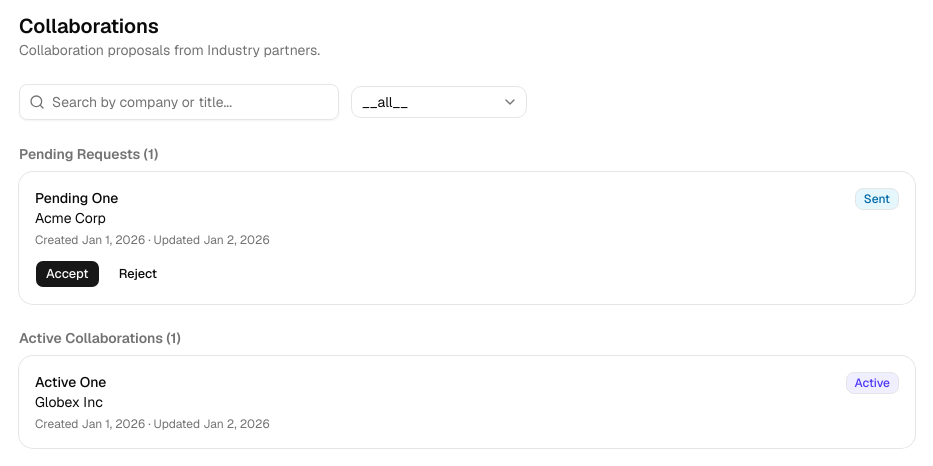
Test: InstitutionCollaborationsView › filters by search term across title and company
This screenshot has width=933, height=466.
Check: the link "Pending One" is shown, box x1=35 y1=189 x2=118 y2=207
Type "globex" into the field named "search collaborations" at (179, 102), box x1=19 y1=84 x2=339 y2=120
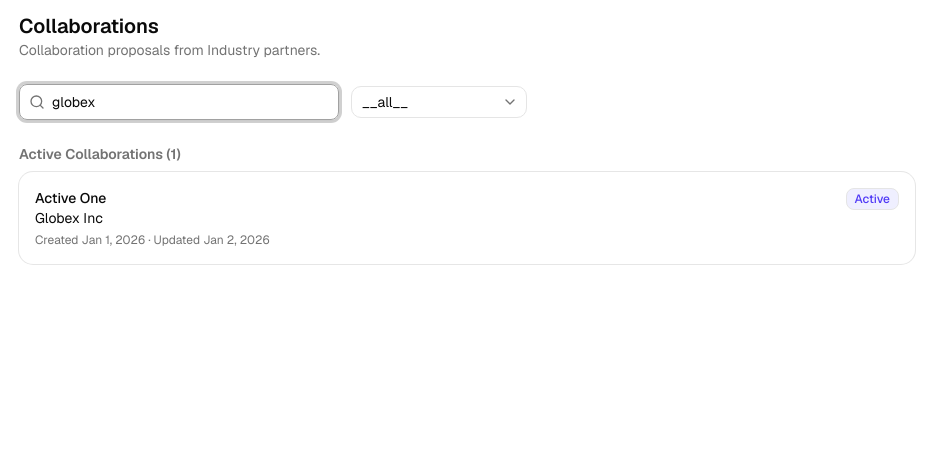
Check: the link "Active One" is shown, box x1=35 y1=189 x2=106 y2=207
Check: the link "Pending One" is gone
